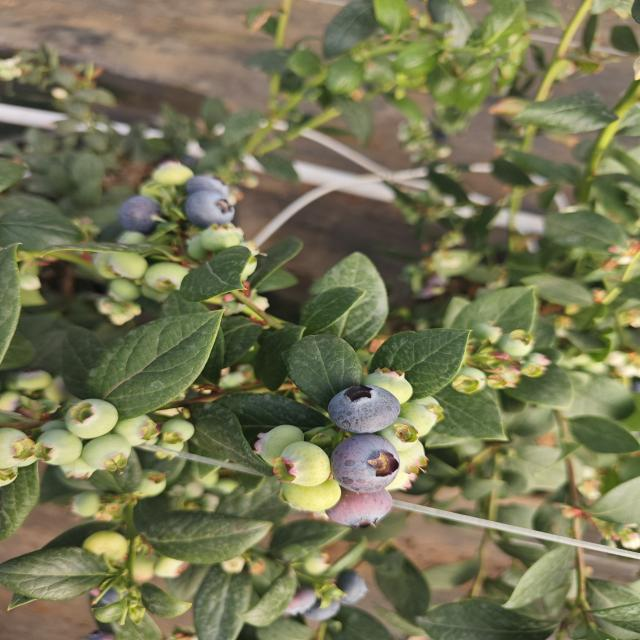ripe: (328, 433, 402, 495), (324, 382, 403, 436), (270, 576, 342, 622), (329, 564, 377, 608), (115, 194, 164, 236), (185, 187, 236, 224), (179, 174, 239, 204)
